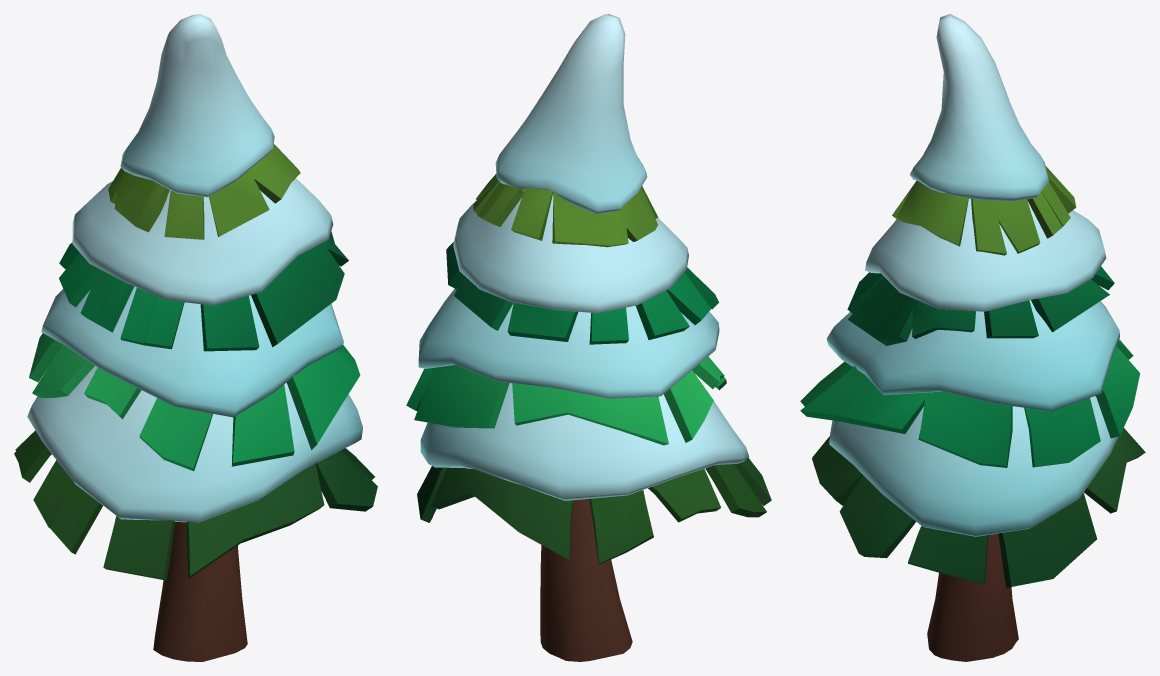
The model's file is ArbolNieve1_V2.fbx.
3 views of the same model, side by side, from view 1: azimuth 30°, elevation 25°; view 2: azimuth 150°, elevation 25°; view 3: azimuth 270°, elevation 25° (orthographic). The views are drawn at different scales.
Parts seen in each view (by area): view 1: Snow, Arbol; view 2: Snow, Arbol; view 3: Snow, Arbol.
Boxes of the visible parts, x1=… form: Snow: x1=27, y1=14, x2=362, y2=522; Arbol: x1=14, y1=144, x2=377, y2=661; Snow: x1=418, y1=14, x2=748, y2=500; Arbol: x1=406, y1=174, x2=771, y2=661; Snow: x1=826, y1=14, x2=1119, y2=536; Arbol: x1=800, y1=166, x2=1145, y2=661.
Bounding box in the file's own units: 3.69 × 7.07 × 3.58.
